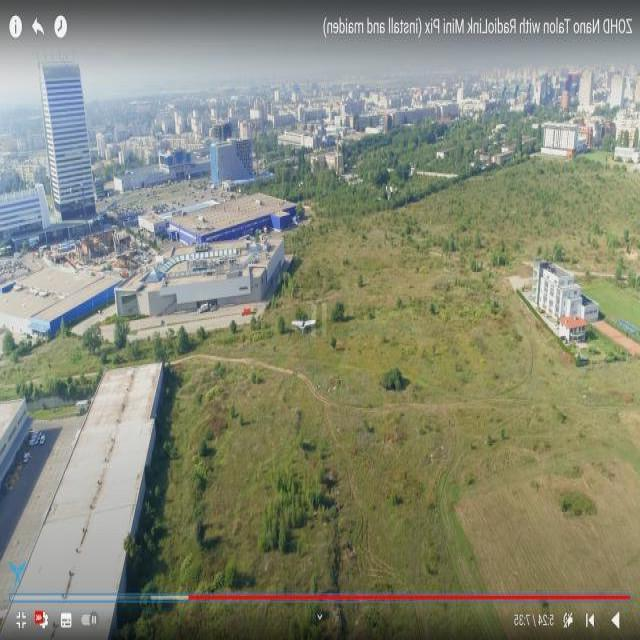UAV: (279, 308, 322, 354)
